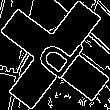P_SW: (25, 23, 85, 87)
